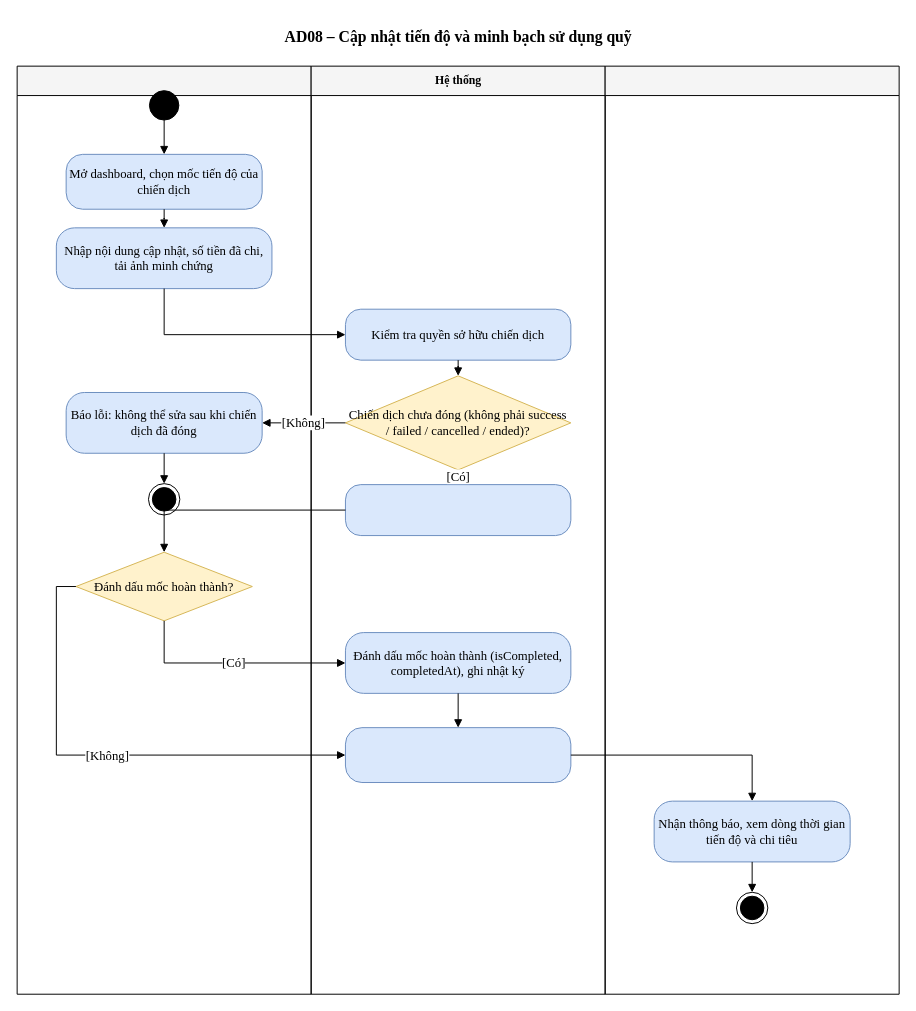
The diagram is 916 pixels wide and 1011 high, and some of its shapes have lost their labels. Each missing label, with the box of its shape:
Chủ dự án: (16, 65, 311, 994)
Gửi thông báo cho người đã ủng hộ chiến dịch: (344, 727, 571, 783)
Lưu bài cập nhật, ghi nhật ký kiểm toán: (344, 484, 571, 536)
Người tài trợ: (604, 65, 899, 994)
